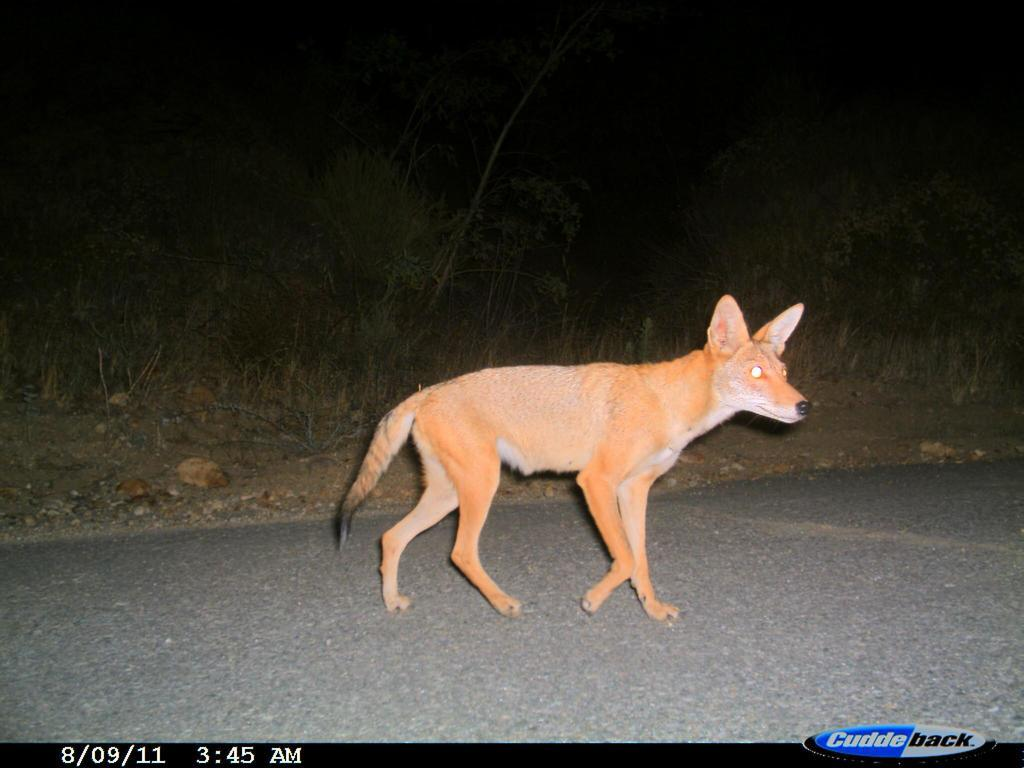coyote: (335, 297, 824, 632)
